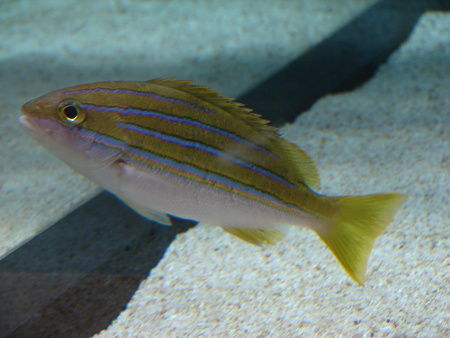fish: (19, 76, 407, 288)
